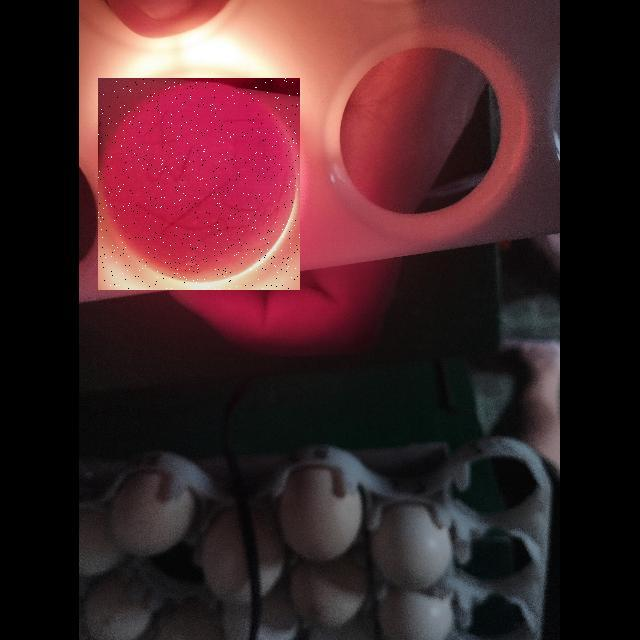Infertile: (98, 78, 300, 290)
